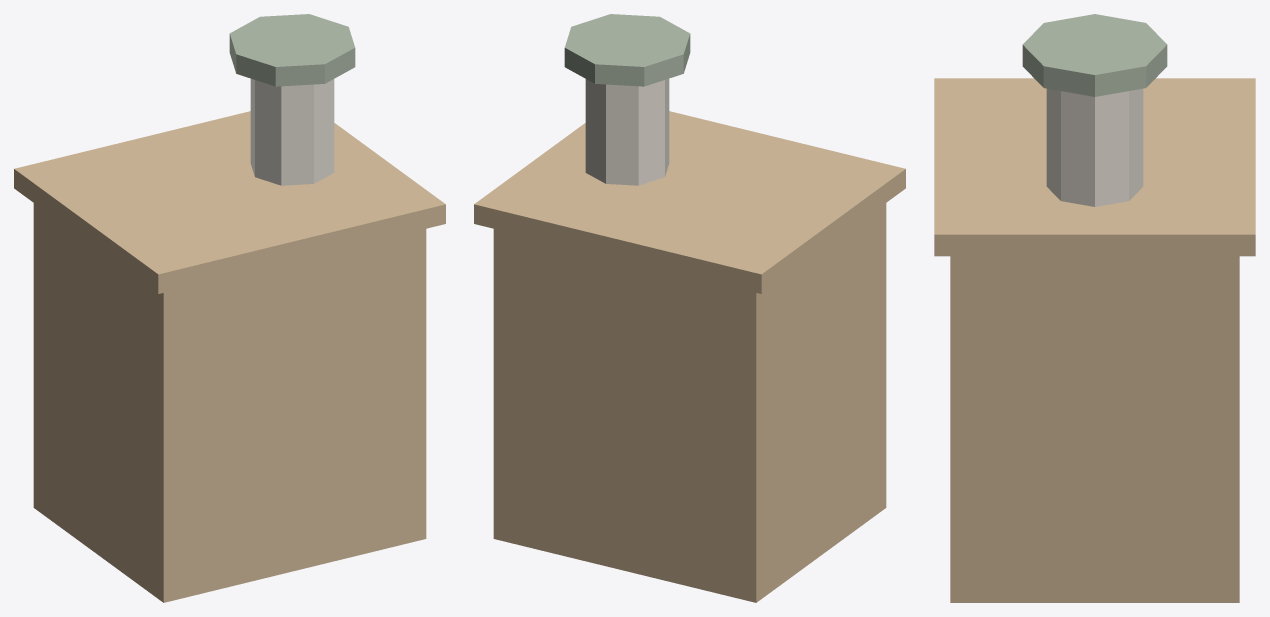
The model's file is nightstand.glb.
The picture shows the model from 3 angles, left to right: view 1: azimuth 30°, elevation 25°; view 2: azimuth 150°, elevation 25°; view 3: azimuth 270°, elevation 25°; orthographic projection. The views are drawn at different scales.
Visible parts, largest first — view 1: root; view 2: root; view 3: root.
Boxes of the visible parts, x1,y1,x2,y2 form: root: (14,14,445,602); root: (474,14,905,602); root: (934,14,1255,602).
Bounding box in the file's own units: 0.46 × 0.715 × 0.4.
